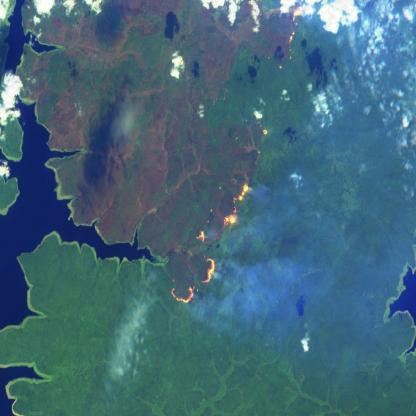fire: (195, 172, 256, 243), (171, 249, 221, 317), (265, 5, 308, 74), (246, 114, 277, 142)
